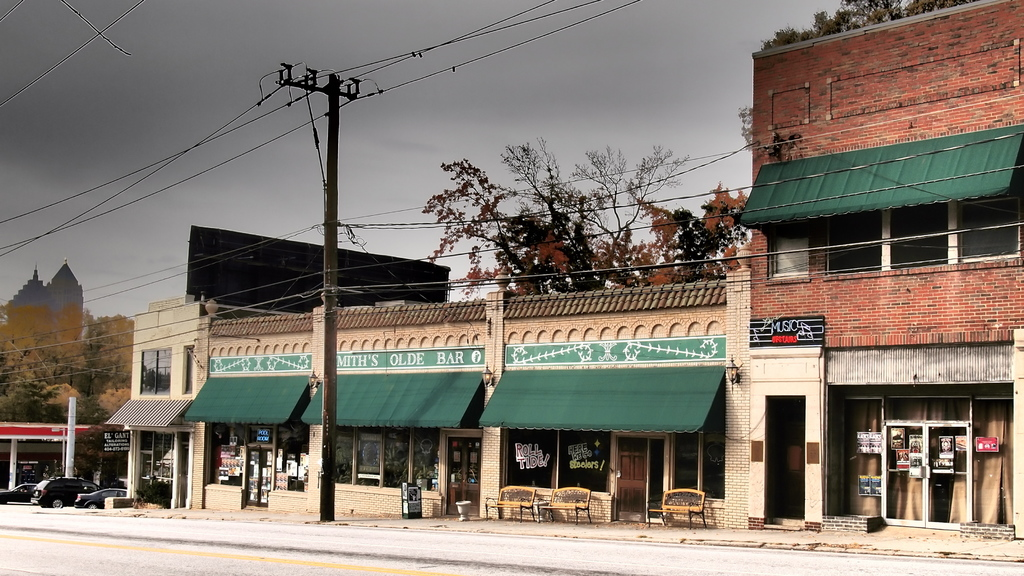Car: (33, 477, 94, 508), (77, 487, 126, 506), (0, 485, 40, 504)
